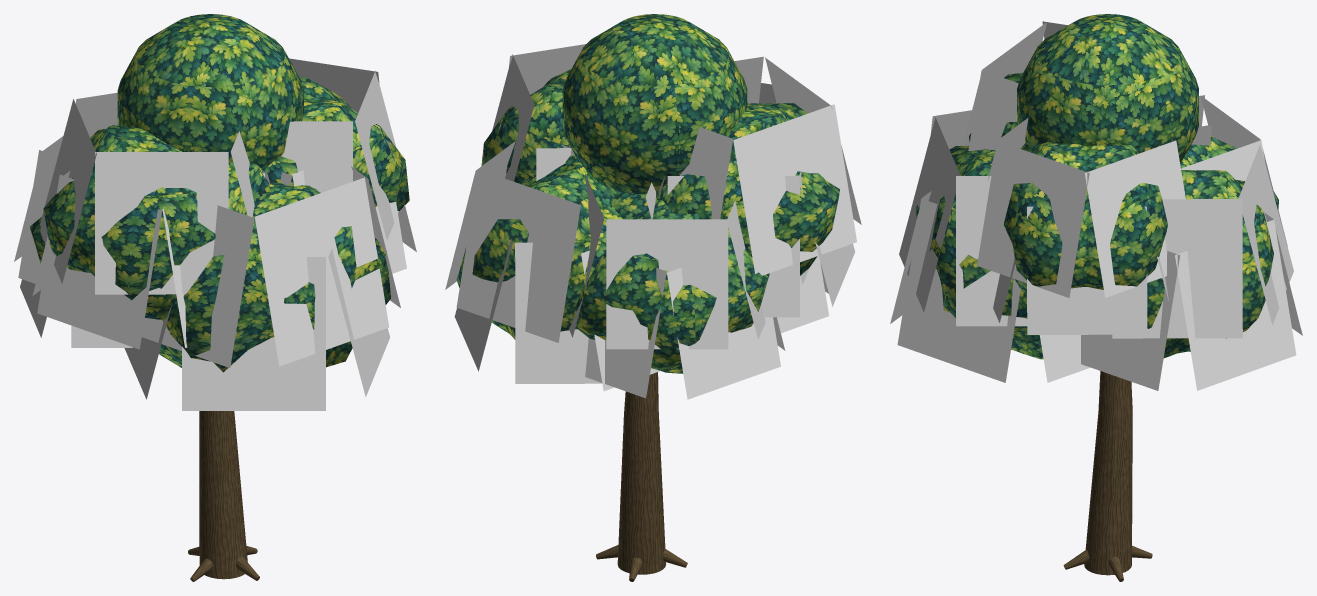
File: NaturalTree_09.fbx
3 renders of one model, left to right at view 1: azimuth 30°, elevation 25°; view 2: azimuth 150°, elevation 25°; view 3: azimuth 270°, elevation 25°, orthographic. The views are drawn at different scales.
Visible parts, largest first — view 1: NaturalTree_09.001; view 2: NaturalTree_09.001; view 3: NaturalTree_09.001.
Part boxes in pixels (left/top/right/bottom): NaturalTree_09.001: left=14, top=14, right=416, bottom=581; NaturalTree_09.001: left=445, top=14, right=861, bottom=581; NaturalTree_09.001: left=890, top=14, right=1302, bottom=581.
Size of the model in its own units: 641 by 951 by 664.
Materials: 3 (2 with a texture image).
